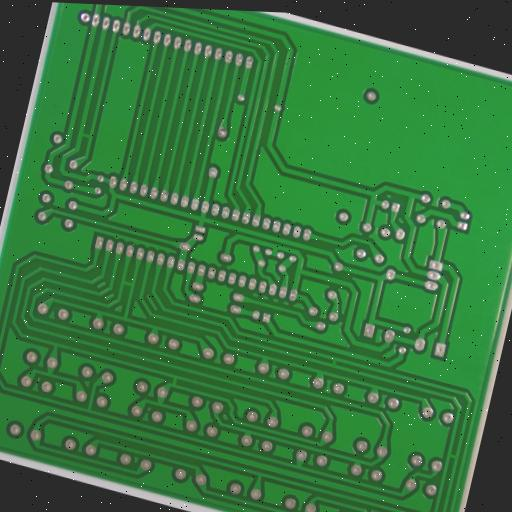short_circuit: (118, 275, 140, 294), (78, 126, 96, 143), (444, 447, 462, 464), (167, 373, 183, 391), (328, 353, 342, 370)
